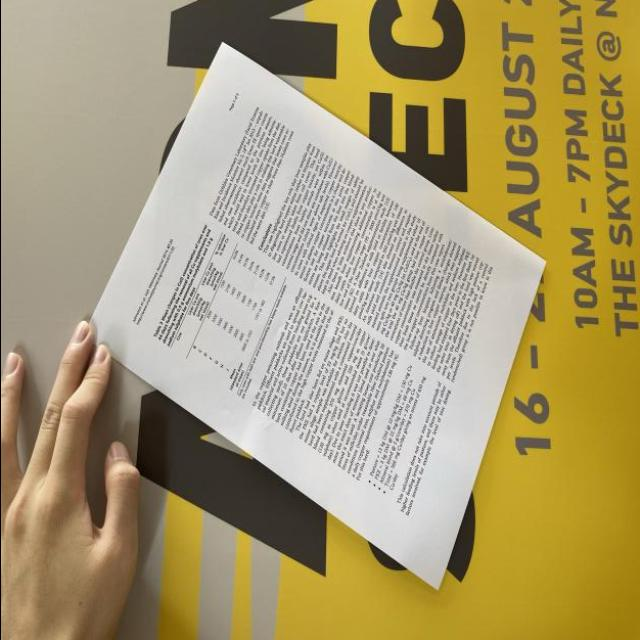kertas: (36, 41, 623, 589)
